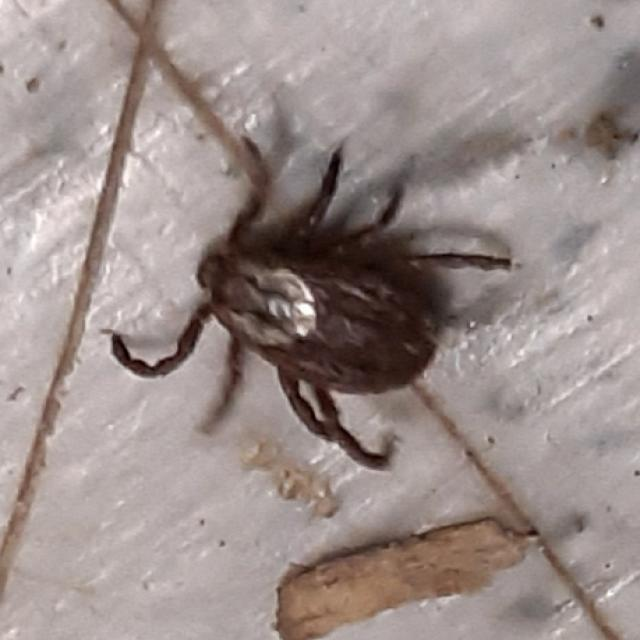Dermacentor Reticulatus-F: (112, 134, 515, 471)
